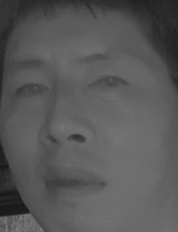eye: (87, 71, 127, 97), (11, 78, 51, 102)
mouth: (39, 160, 107, 204)
